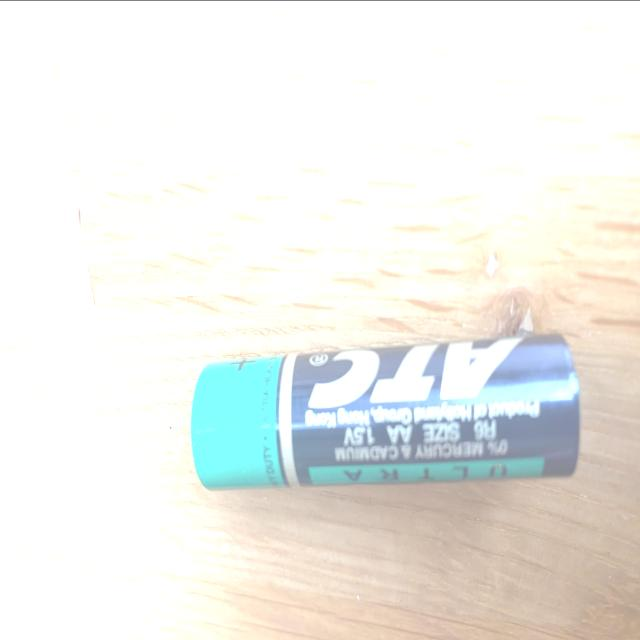AA: (190, 330, 580, 490)
